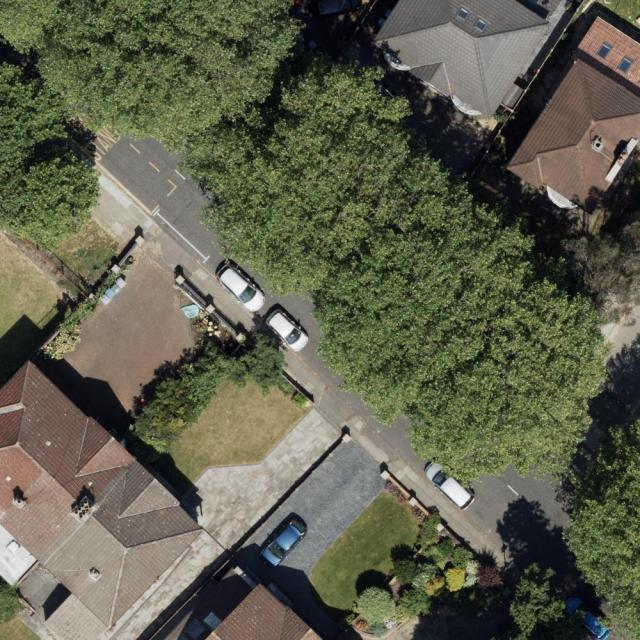roof: (0, 363, 203, 640), (502, 17, 640, 223), (370, 0, 573, 127), (203, 584, 324, 640)
skylight: (614, 54, 634, 75), (594, 41, 611, 60), (472, 16, 489, 33), (454, 8, 469, 23)
